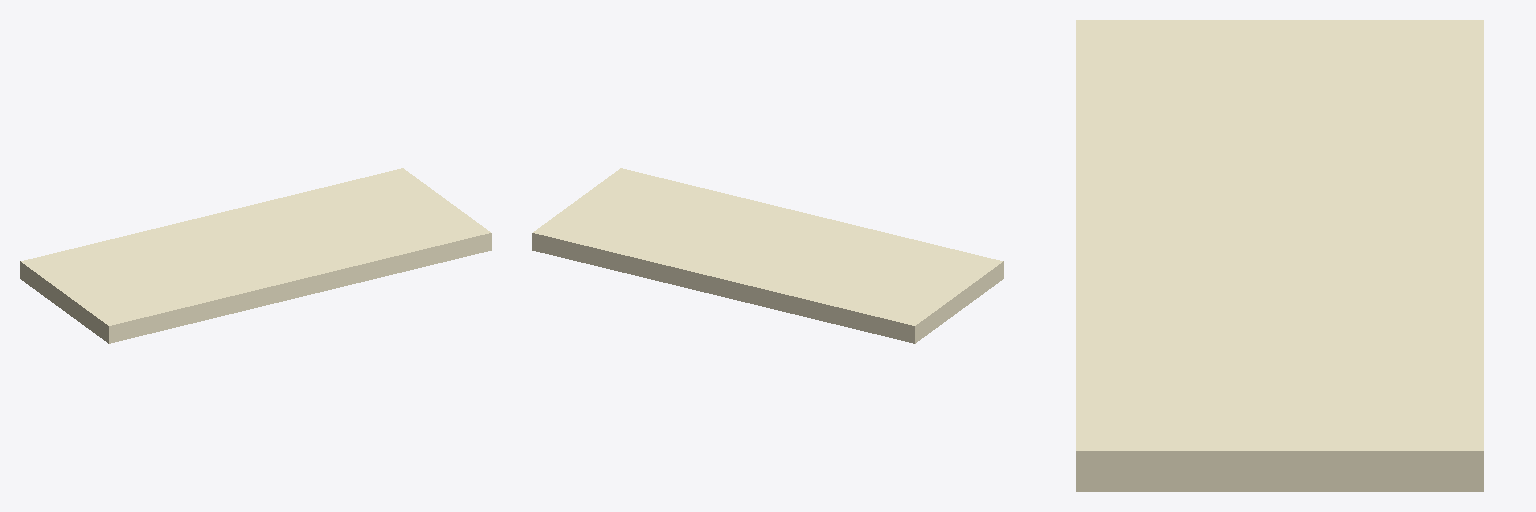
robot.urdf — table_prior:
<robot name="table_prior">
  <link name="base_link">
    <!-- Tabletop -->
    <collision>
      <origin xyz="0 0 0.764"/>
      <geometry>
        <box size="1.8515 0.741 0.082"/>
      </geometry>
    </collision>
    <visual>
      <origin xyz="0 0 0.764"/>
      <geometry>
        <box size="1.8515 0.741 0.082"/>
      </geometry>
      <material name="gray">
        <color rgba="1.00000  0.97255  0.86275 0.8"/>
      </material>
    </visual>
  </link>
</robot>

--- What the picture shows (computed from the rendered views, not written in the file) ---
3 views of the same robot in one strip: view 1: azimuth 30°, elevation 25°; view 2: azimuth 150°, elevation 25°; view 3: azimuth 270°, elevation 25° (orthographic).
Model table_prior with 1 links and 0 joints (none), rooted at base_link, posed every joint at zero.
Visible links, largest first — view 1: base_link; view 2: base_link; view 3: base_link.
Link boxes in pixels (<box>): base_link: <box>20,168,491,343</box>; base_link: <box>532,168,1003,343</box>; base_link: <box>1076,20,1483,491</box>.
Bounding box of the posed robot: 1.85 × 0.741 × 0.082 m (x, y, z).
Geometry: primitives only (box / cylinder / sphere), no mesh files.